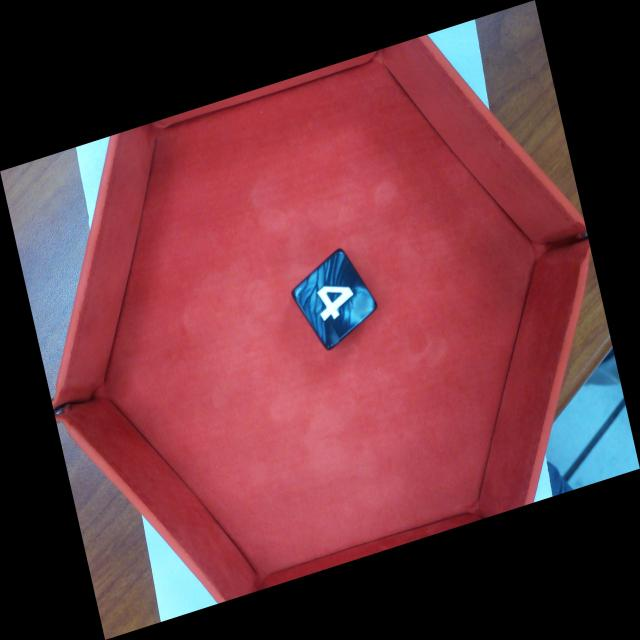dice: (288, 245, 381, 354)
